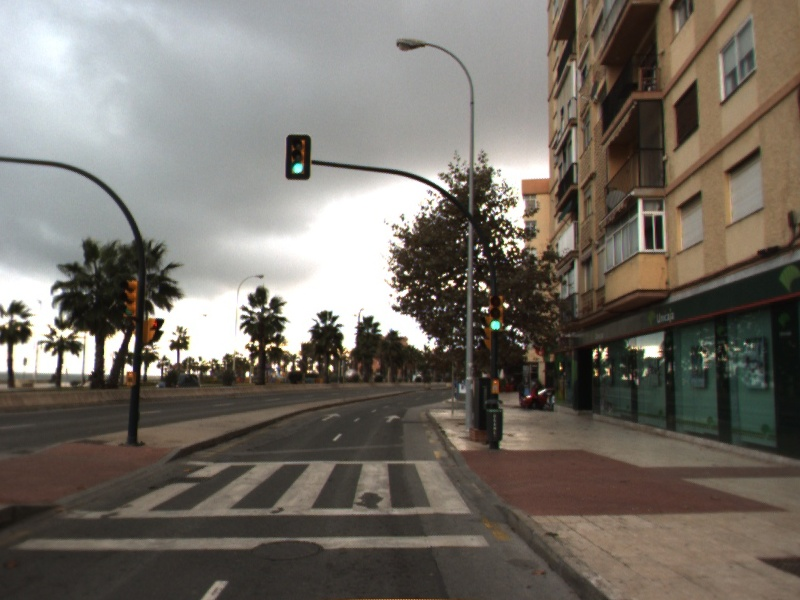STRAIGHT: (320, 411, 343, 423), (383, 413, 402, 424)
